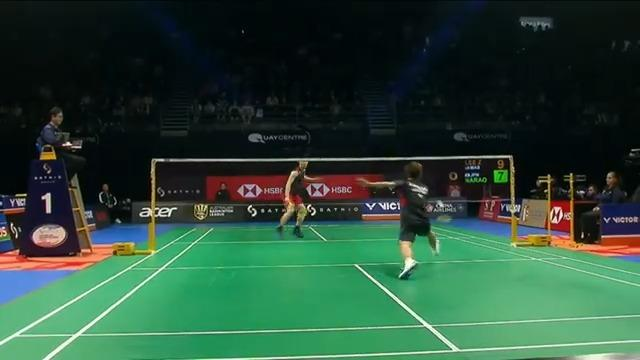Shuttlecock: (434, 198, 448, 210)
